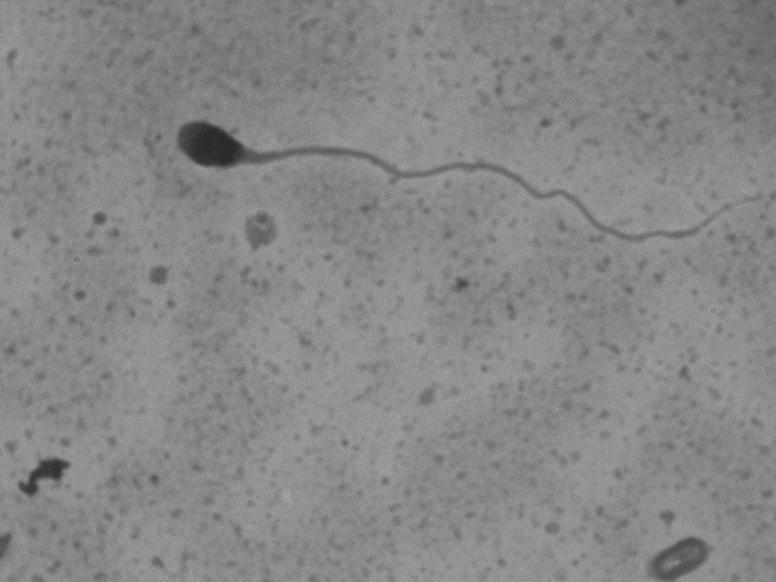Normal: (159, 103, 762, 260)
